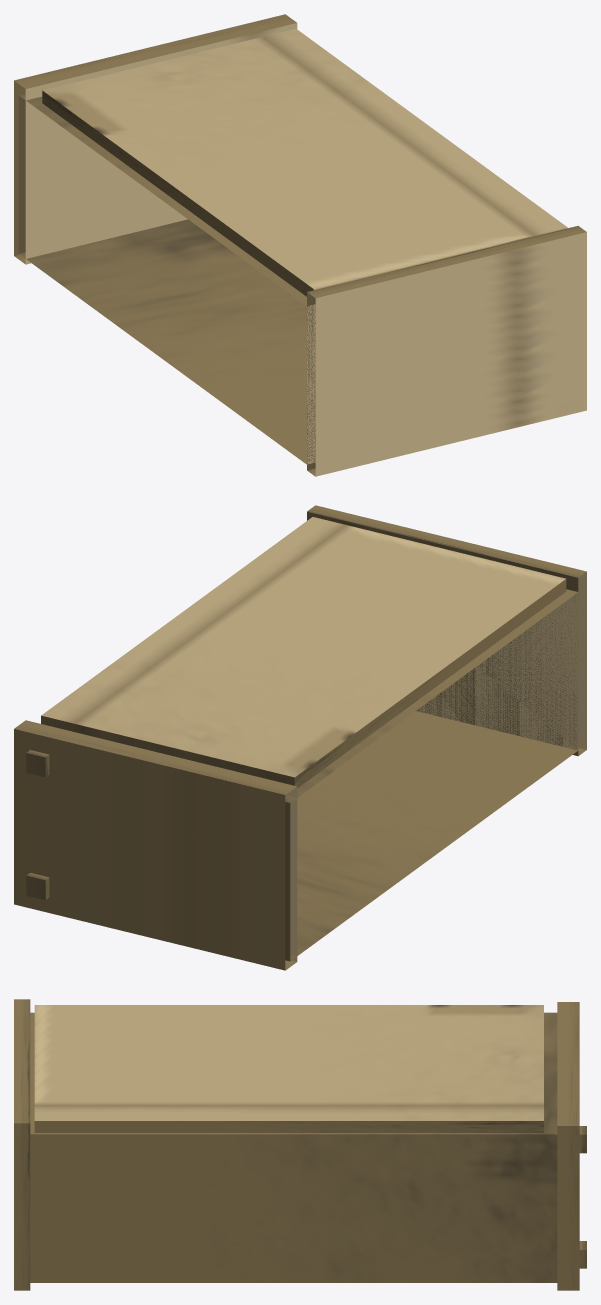
Rendered from pz_wardrobe_storage_02_white_1_0.obj.
The picture shows the model from 3 angles, top to bottom: view 1: azimuth 30°, elevation 25°; view 2: azimuth 150°, elevation 25°; view 3: azimuth 270°, elevation 25°; orthographic projection. The views are drawn at different scales.
Bounding box in the file's own units: 0.995 × 0.625 × 1.94.
1 material, 1 textured.
